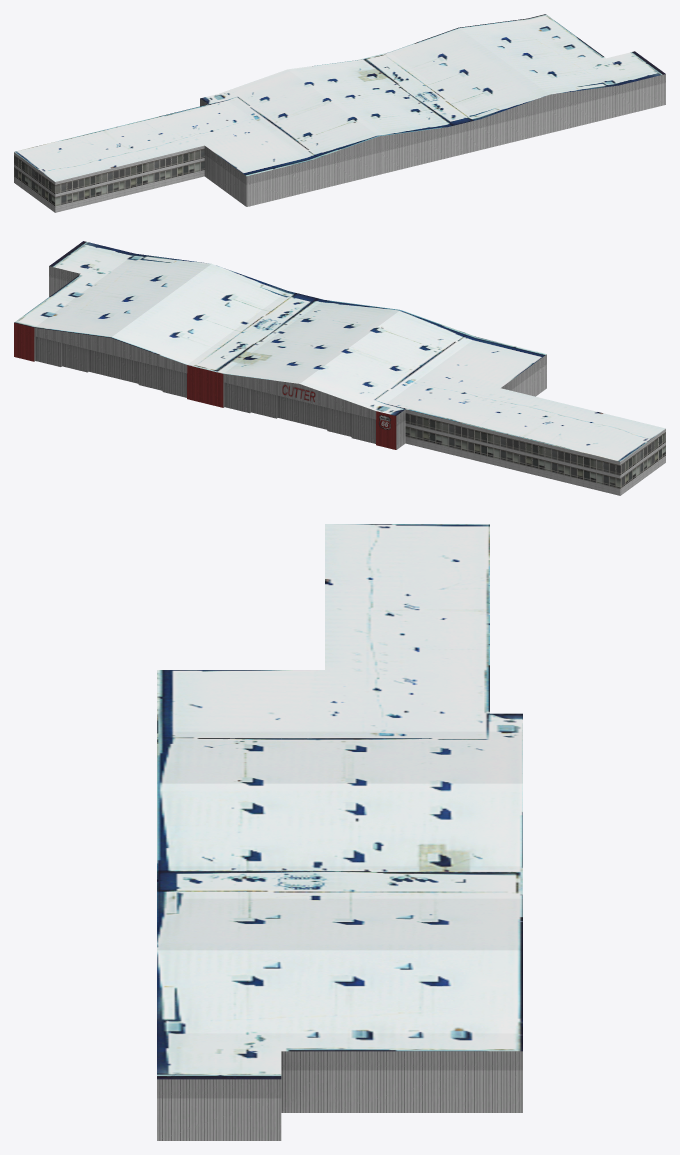
The model's file is Hangar5.gltf.
The picture shows the model from 3 angles, top to bottom: view 1: azimuth 30°, elevation 25°; view 2: azimuth 150°, elevation 25°; view 3: azimuth 270°, elevation 25°; orthographic projection. The views are drawn at different scales.
Visible parts, largest first — view 1: Hangar5; view 2: Hangar5; view 3: Hangar5.
Boxes of the visible parts, x1,y1,x2,y2 form: Hangar5: (14, 14, 665, 212); Hangar5: (14, 241, 665, 495); Hangar5: (157, 524, 522, 1140).
Bounding box in the file's own units: 154 × 10 × 42.94.
1 material, 1 textured.
